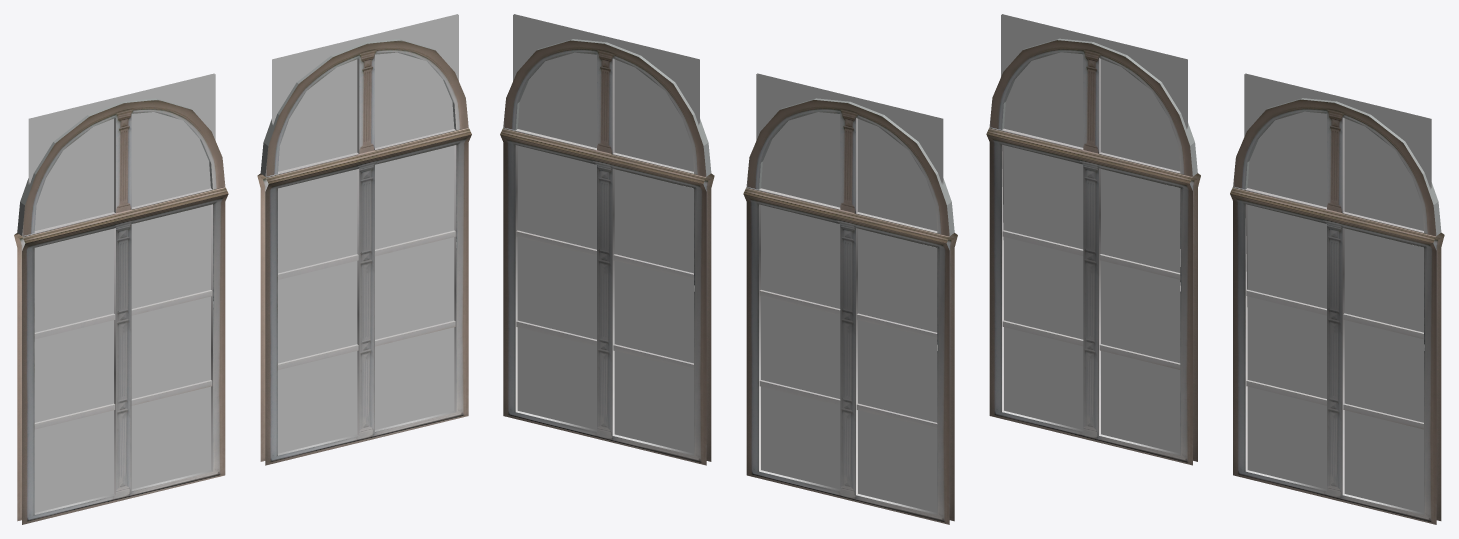
Rendered from WindowRounded2A.fbx.
3 renders of one model, left to right at view 1: azimuth 30°, elevation 25°; view 2: azimuth 150°, elevation 25°; view 3: azimuth 330°, elevation 25°, orthographic.
Visible parts, largest first — view 1: WindowRounded2A; view 2: WindowRounded2A; view 3: WindowRounded2A.
Part boxes in pixels (x1,y1,x2,y2): WindowRounded2A: (14,14,471,524); WindowRounded2A: (500,14,957,524); WindowRounded2A: (986,14,1444,524).
Size of the model in its own units: 308 by 264 by 13.57.
